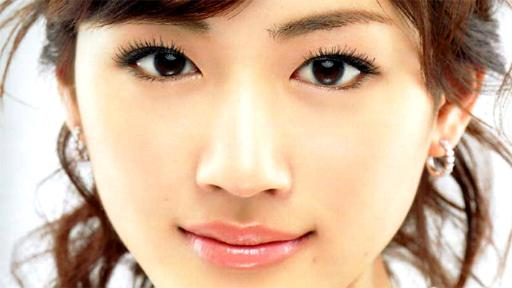left_eye: (290, 56, 383, 92)
left_lip_corner: (299, 227, 322, 242)
right_eye: (125, 49, 205, 83)
right_lip_corner: (173, 222, 196, 240)
